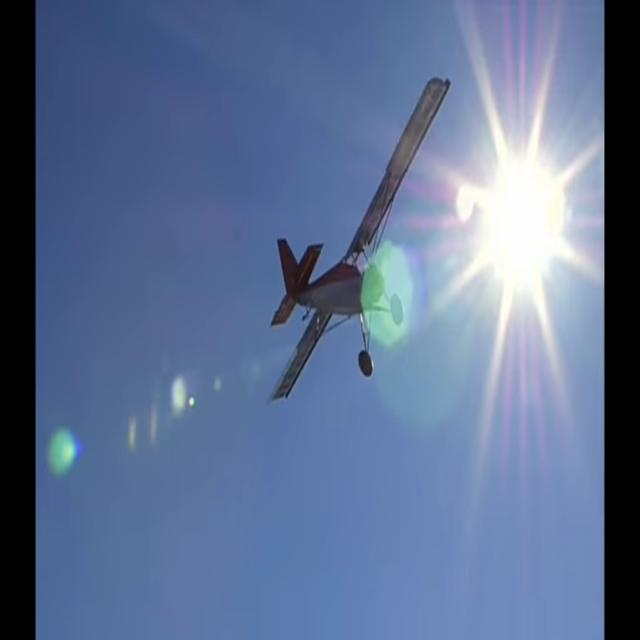iha: (269, 77, 451, 398)
